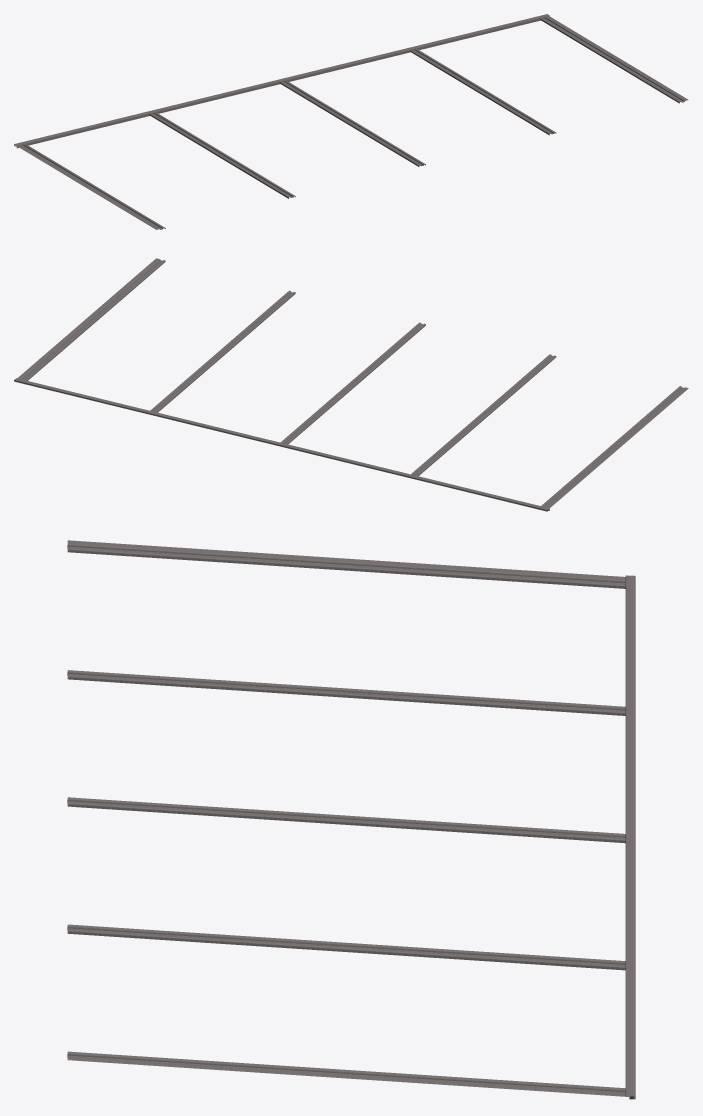
The model's file is ArcheryField_GroundMolding.fbx.
3 renders of one model, top to bottom at view 1: azimuth 30°, elevation 25°; view 2: azimuth 150°, elevation 25°; view 3: azimuth 270°, elevation 25°, orthographic. The views are drawn at different scales.
Visible parts, largest first — view 1: ArcheryField_GroundMolding; view 2: ArcheryField_GroundMolding; view 3: ArcheryField_GroundMolding.
Boxes of the visible parts, bbox=[...] form: ArcheryField_GroundMolding: bbox=[14, 14, 688, 229]; ArcheryField_GroundMolding: bbox=[14, 258, 688, 511]; ArcheryField_GroundMolding: bbox=[67, 540, 635, 1099].
Size of the model in its own units: 1948 by 71.9 by 899.
